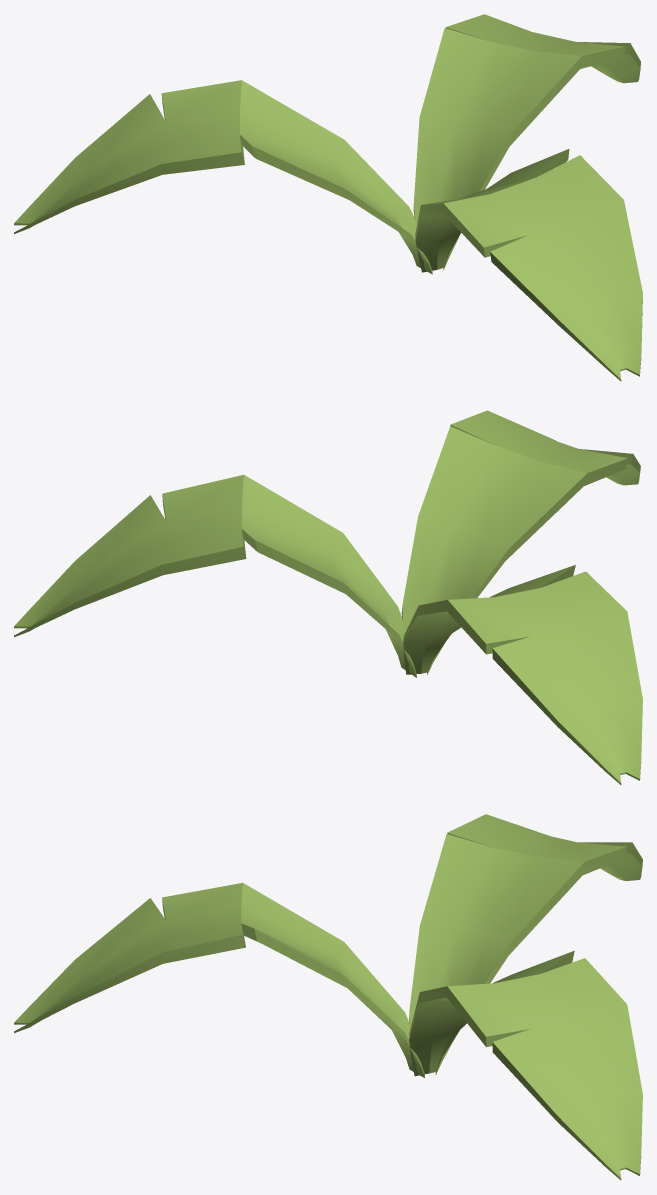
Rendered from Bush.glb.
3 renders of one model, top to bottom at view 1: azimuth 30°, elevation 25°; view 2: azimuth 150°, elevation 25°; view 3: azimuth 270°, elevation 25°, orthographic.
Visible parts, largest first — view 1: Bush; view 2: Bush; view 3: Bush.
Boxes of the visible parts, x1,y1,x2,y2 form: Bush: (14,14,642,381); Bush: (14,410,642,784); Bush: (14,814,642,1180).
Bounding box in the file's own units: 2.02 × 0.5301 × 1.76.
1 material, 1 textured.
